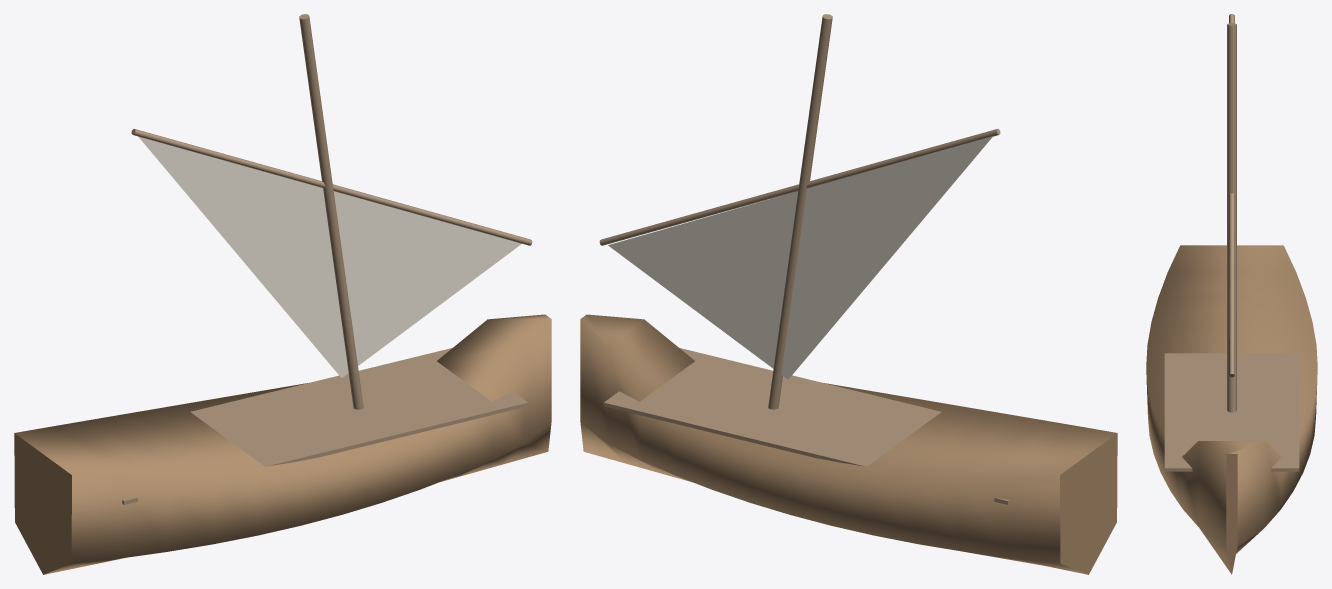
Rendered from SM_Dhow.fbx.
3 renders of one model, left to right at view 1: azimuth 30°, elevation 25°; view 2: azimuth 150°, elevation 25°; view 3: azimuth 270°, elevation 25°, orthographic. The views are drawn at different scales.
Visible parts, largest first — view 1: SM_Dhow; view 2: SM_Dhow; view 3: SM_Dhow.
Part boxes in pixels (bbox=[...]): SM_Dhow: bbox=[14, 14, 551, 574]; SM_Dhow: bbox=[580, 14, 1117, 574]; SM_Dhow: bbox=[1146, 14, 1317, 574].
Size of the model in its own units: 1400 by 1336 by 459.
